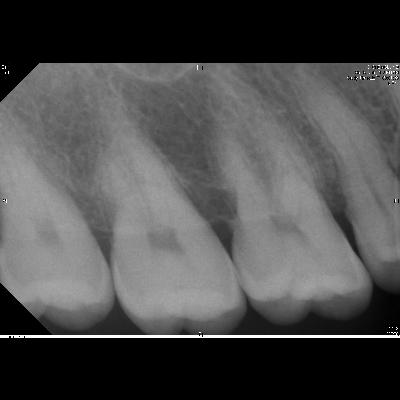tooth: (208, 68, 374, 326), (87, 93, 246, 335)
